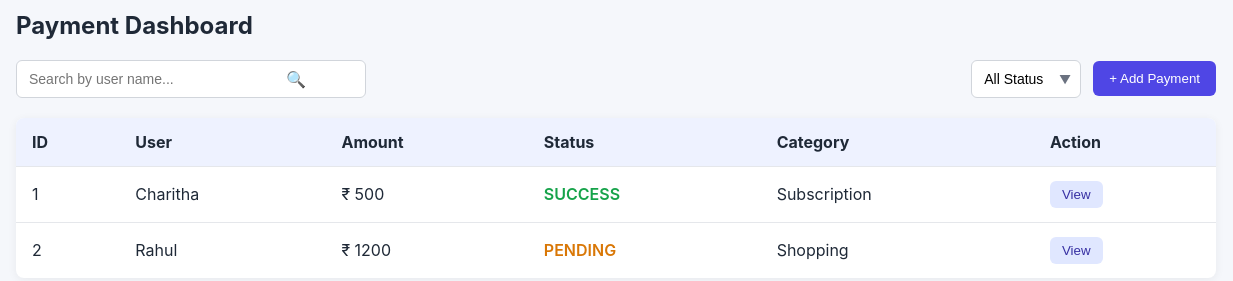
Test: PaymentList.vue › filters payments by user name
In the field with placeholder "Search by user name...": [191, 79] box [16,60,366,98], type "Charitha"
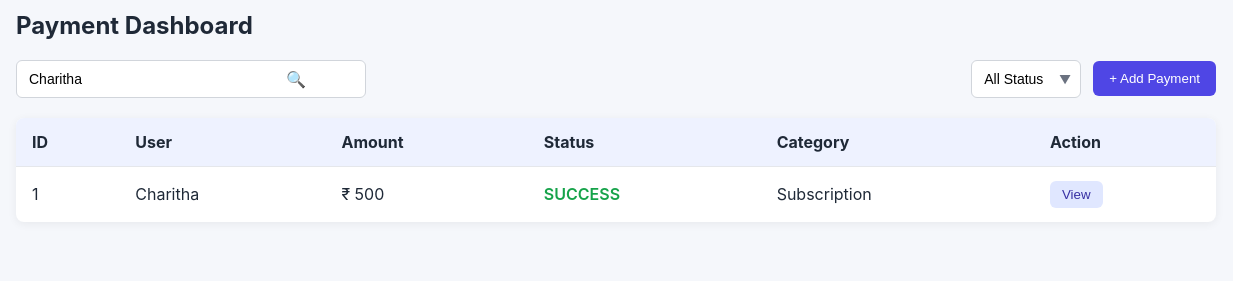
Expected: the text "Charitha" is shown, [119,166,325,222]
Expected: the text "Rahul" is gone
